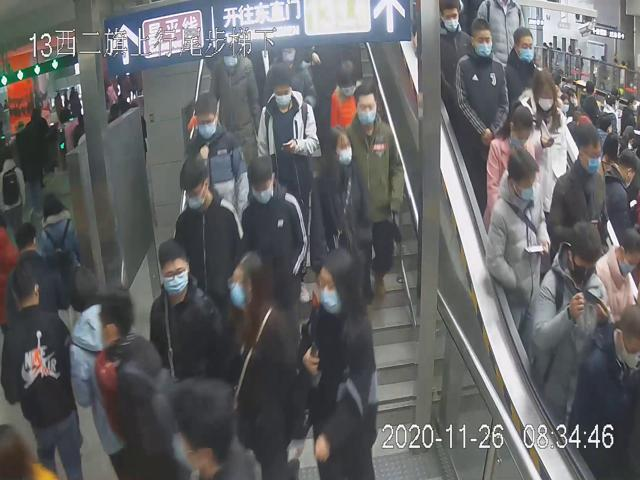person: (296, 245, 382, 480), (224, 247, 303, 480), (345, 83, 404, 310), (147, 236, 222, 385), (304, 122, 371, 286), (184, 91, 249, 255), (173, 153, 243, 305), (237, 149, 309, 284), (255, 62, 322, 203), (548, 119, 610, 256), (453, 16, 507, 173), (325, 56, 367, 148), (503, 24, 535, 98)
